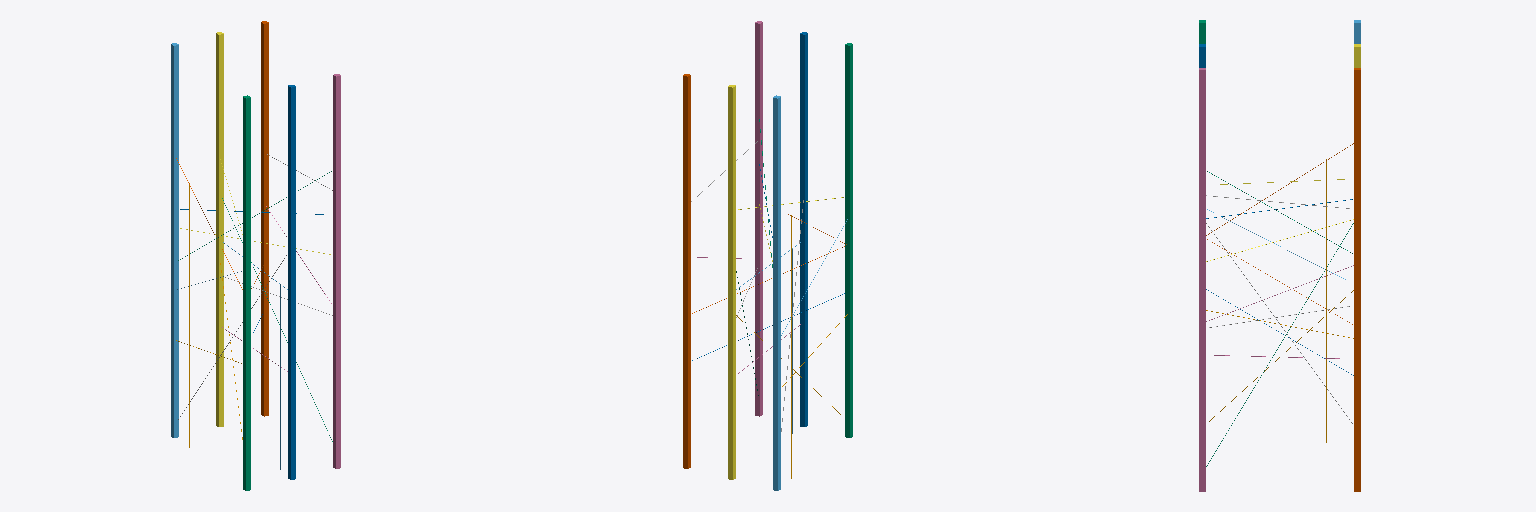
The robot description file, URDF, robot "strings":
<robot name="strings">
   <material name="Brown">
     <color rgba="83./255. 53./255. 10./255."/>
   </material>
   <material name="White">
     <color rgba="1 1 1"/>
   </material>
   <material name="Grey">
     <color rgba=".3 .3 .3"/>
   </material>
   <material name="Red">
     <color rgba="1 0 0"/>
   </material>
   <link name="world"/>

   <link name="l1">
   	<inertial>
   		<mass value=".5" />
   		<origin xyz="0 0 1.5" rpy="0 0 0"/>
		  <inertia ixx="10"  ixy="0"  ixz="0" iyy="10" iyz="0" izz="1" />
   	</inertial>
  	<visual>
      <origin xyz="0 0 1.5" rpy="0 0 0" />
      <geometry>
        <box size="0.042 0.042 3"/>
      </geometry>
      <material name="White"/>
    </visual>
    <collision>
      <origin xyz="0 0 1.5" rpy="0 0 0" />
      <geometry>
        <box size="0.042 0.042 3"/>
      </geometry>
    </collision>
   </link>
   <joint name="l1_weld" type="fixed">
    <parent link="world"/>
      <child link="l1"/>
    <origin xyz="-.36 .5 0" rpy="0 0 0" />
   </joint>
   <link name="l2">
   	<inertial>
   		<mass value=".5" />
   		<origin xyz="0 0 1.5" rpy="0 0 0"/>
		  <inertia ixx="10"  ixy="0"  ixz="0" iyy="10" iyz="0" izz="1" />
   	</inertial>
  	<visual>
      <origin xyz="0 0 1.5" rpy="0 0 0" />
      <geometry>
        <box size="0.042 0.042 3"/>
      </geometry>
      <material name="White"/>
    </visual>
    <collision>
      <origin xyz="0 0 1.5" rpy="0 0 0" />
      <geometry>
        <box size="0.042 0.042 3"/>
      </geometry>
    </collision>
   </link>
   <joint name="l2_weld" type="fixed">
    <parent link="world"/>
      <child link="l2"/>
    <origin xyz="-.36 -.5 0" rpy="0 0 0" />
   </joint>

   <link name="l3">
   	<inertial>
   		<mass value=".5" />
   		<origin xyz="0 0 1.5" rpy="0 0 0"/>
		  <inertia ixx="10"  ixy="0"  ixz="0" iyy="10" iyz="0" izz="1" />
   	</inertial>
  	<visual>
      <origin xyz="0 0 1.5" rpy="0 0 0" />
      <geometry>
        <box size="0.042 0.042 3"/>
      </geometry>
      <material name="White"/>
    </visual>
    <collision>
      <origin xyz="0 0 1.5" rpy="0 0 0" />
      <geometry>
        <box size="0.042 0.042 3"/>
      </geometry>
    </collision>
   </link>
   <joint name="l3_weld" type="fixed">
    <parent link="world"/>
      <child link="l3"/>
    <origin xyz="0 .5 0" rpy="0 0 0" />
   </joint>
   <link name="l4">
   	<inertial>
   		<mass value=".5" />
   		<origin xyz="0 0 1.5" rpy="0 0 0"/>
		  <inertia ixx="10"  ixy="0"  ixz="0" iyy="10" iyz="0" izz="1" />
   	</inertial>
  	<visual>
      <origin xyz="0 0 1.5" rpy="0 0 0" />
      <geometry>
        <box size="0.042 0.042 3"/>
      </geometry>
      <material name="White"/>
    </visual>
    <collision>
      <origin xyz="0 0 1.5" rpy="0 0 0" />
      <geometry>
        <box size="0.042 0.042 3"/>
      </geometry>
    </collision>
   </link>
   <joint name="l4_weld" type="fixed">
    <parent link="world"/>
      <child link="l4"/>
    <origin xyz="0 -.5 0" rpy="0 0 0" />
   </joint>

   <link name="l5">
   	<inertial>
   		<mass value=".5" />
   		<origin xyz="0 0 1.5" rpy="0 0 0"/>
		  <inertia ixx="10"  ixy="0"  ixz="0" iyy="10" iyz="0" izz="1" />
   	</inertial>
  	<visual>
      <origin xyz="0 0 1.5" rpy="0 0 0" />
      <geometry>
        <box size="0.042 0.042 3"/>
      </geometry>
      <material name="White"/>
    </visual>
    <collision>
      <origin xyz="0 0 1.5" rpy="0 0 0" />
      <geometry>
        <box size="0.042 0.042 3"/>
      </geometry>
    </collision>
   </link>
   <joint name="l5_weld" type="fixed">
    <parent link="world"/>
      <child link="l5"/>
    <origin xyz=".36 .5 0" rpy="0 0 0" />
   </joint>
   <link name="l6">
   	<inertial>
   		<mass value=".5" />
   		<origin xyz="0 0 1.5" rpy="0 0 0"/>
		  <inertia ixx="10"  ixy="0"  ixz="0" iyy="10" iyz="0" izz="1" />
   	</inertial>
  	<visual>
      <origin xyz="0 0 1.5" rpy="0 0 0" />
      <geometry>
        <box size="0.042 0.042 3"/>
      </geometry>
      <material name="White"/>
    </visual>
    <collision>
      <origin xyz="0 0 1.5" rpy="0 0 0" />
      <geometry>
        <box size="0.042 0.042 3"/>
      </geometry>
    </collision>
   </link>
   <joint name="l6_weld" type="fixed">
    <parent link="world"/>
      <child link="l6"/>
    <origin xyz=".36 -.5 0" rpy="0 0 0" />
   </joint>

   <link name="string1">
      <inertial>
         <mass value=".5"/>
         <origin rpy="0 0 0" xyz="0 0 0.99398"/>
         <inertia ixx="10" ixy="0" ixz="0" iyy="10" iyz="0" izz="1"/>
      </inertial>
      <visual>
         <origin rpy="0 0 0" xyz="0 0 0.99398"/>
         <geometry>
            <box size=".002 .002 1.988"/>
         </geometry>
         <material name="Red"/>
      </visual>
      <collision>
         <origin rpy="0 0 0" xyz="0 0 0.99398"/>
         <geometry>
            <box size=".002 .002 1.988"/>
         </geometry>
      </collision>
   </link>
   <joint name="string1_weld" type="fixed">
      <parent link="world"/>
      <child link="string1"/>
      <origin rpy="0.53691 0.18209 0.050222" xyz="-0.36 0.5 0.09"/>
   </joint>
   <link name="string2">
      <inertial>
         <mass value=".5"/>
         <origin rpy="0 0 0" xyz="0 0 0.51091"/>
         <inertia ixx="10" ixy="0" ixz="0" iyy="10" iyz="0" izz="1"/>
      </inertial>
      <visual>
         <origin rpy="0 0 0" xyz="0 0 0.51091"/>
         <geometry>
            <box size=".002 .002 1.0218"/>
         </geometry>
         <material name="Red"/>
      </visual>
      <collision>
         <origin rpy="0 0 0" xyz="0 0 0.51091"/>
         <geometry>
            <box size=".002 .002 1.0218"/>
         </geometry>
      </collision>
   </link>
   <joint name="string2_weld" type="fixed">
      <parent link="world"/>
      <child link="string2"/>
      <origin rpy="1.3638 0 0" xyz="-0.36 0.5 0.74"/>
   </joint>
   <link name="string3">
      <inertial>
         <mass value=".5"/>
         <origin rpy="0 0 0" xyz="0 0 0.57306"/>
         <inertia ixx="10" ixy="0" ixz="0" iyy="10" iyz="0" izz="1"/>
      </inertial>
      <visual>
         <origin rpy="0 0 0" xyz="0 0 0.57306"/>
         <geometry>
            <box size=".002 .002 1.1461"/>
         </geometry>
         <material name="Red"/>
      </visual>
      <collision>
         <origin rpy="0 0 0" xyz="0 0 0.57306"/>
         <geometry>
            <box size=".002 .002 1.1461"/>
         </geometry>
      </collision>
   </link>
   <joint name="string3_weld" type="fixed">
      <parent link="world"/>
      <child link="string3"/>
      <origin rpy="1.0603 0 0" xyz="-0.36 0.5 1.12"/>
   </joint>
   <link name="string4">
      <inertial>
         <mass value=".5"/>
         <origin rpy="0 0 0" xyz="0 0 0.78102"/>
         <inertia ixx="10" ixy="0" ixz="0" iyy="10" iyz="0" izz="1"/>
      </inertial>
      <visual>
         <origin rpy="0 0 0" xyz="0 0 0.78102"/>
         <geometry>
            <box size=".002 .002 1.562"/>
         </geometry>
         <material name="Red"/>
      </visual>
      <collision>
         <origin rpy="0 0 0" xyz="0 0 0.78102"/>
         <geometry>
            <box size=".002 .002 1.562"/>
         </geometry>
      </collision>
   </link>
   <joint name="string4_weld" type="fixed">
      <parent link="world"/>
      <child link="string4"/>
      <origin rpy="0.8058 0.47905 0.20743" xyz="-0.36 0.5 1.33"/>
   </joint>
   <link name="string5">
      <inertial>
         <mass value=".5"/>
         <origin rpy="0 0 0" xyz="0 0 0.6162"/>
         <inertia ixx="10" ixy="0" ixz="0" iyy="10" iyz="0" izz="1"/>
      </inertial>
      <visual>
         <origin rpy="0 0 0" xyz="0 0 0.6162"/>
         <geometry>
            <box size=".002 .002 1.2324"/>
         </geometry>
         <material name="Red"/>
      </visual>
      <collision>
         <origin rpy="0 0 0" xyz="0 0 0.6162"/>
         <geometry>
            <box size=".002 .002 1.2324"/>
         </geometry>
      </collision>
   </link>
   <joint name="string5_weld" type="fixed">
      <parent link="world"/>
      <child link="string5"/>
      <origin rpy="1.5508 0.62393 0.61234" xyz="-0.36 0.5 1.6"/>
   </joint>
   <link name="string6">
      <inertial>
         <mass value=".5"/>
         <origin rpy="0 0 0" xyz="0 0 0.6234"/>
         <inertia ixx="10" ixy="0" ixz="0" iyy="10" iyz="0" izz="1"/>
      </inertial>
      <visual>
         <origin rpy="0 0 0" xyz="0 0 0.6234"/>
         <geometry>
            <box size=".002 .002 1.2468"/>
         </geometry>
         <material name="Red"/>
      </visual>
      <collision>
         <origin rpy="0 0 0" xyz="0 0 0.6234"/>
         <geometry>
            <box size=".002 .002 1.2468"/>
         </geometry>
      </collision>
   </link>
   <joint name="string6_weld" type="fixed">
      <parent link="world"/>
      <child link="string6"/>
      <origin rpy="1.383 0.61564 0.51474" xyz="-0.36 0.5 1.74"/>
   </joint>
   <link name="string7">
      <inertial>
         <mass value=".5"/>
         <origin rpy="0 0 0" xyz="0 0 0.60747"/>
         <inertia ixx="10" ixy="0" ixz="0" iyy="10" iyz="0" izz="1"/>
      </inertial>
      <visual>
         <origin rpy="0 0 0" xyz="0 0 0.60747"/>
         <geometry>
            <box size=".002 .002 1.2149"/>
         </geometry>
         <material name="Red"/>
      </visual>
      <collision>
         <origin rpy="0 0 0" xyz="0 0 0.60747"/>
         <geometry>
            <box size=".002 .002 1.2149"/>
         </geometry>
      </collision>
   </link>
   <joint name="string7_weld" type="fixed">
      <parent link="world"/>
      <child link="string7"/>
      <origin rpy="2.1748 0 0" xyz="-0.36 0.5 2.15"/>
   </joint>
   <link name="string8">
      <inertial>
         <mass value=".5"/>
         <origin rpy="0 0 0" xyz="0 0 0.50022"/>
         <inertia ixx="10" ixy="0" ixz="0" iyy="10" iyz="0" izz="1"/>
      </inertial>
      <visual>
         <origin rpy="0 0 0" xyz="0 0 0.50022"/>
         <geometry>
            <box size=".002 .002 1.0004"/>
         </geometry>
         <material name="Red"/>
      </visual>
      <collision>
         <origin rpy="0 0 0" xyz="0 0 0.50022"/>
         <geometry>
            <box size=".002 .002 1.0004"/>
         </geometry>
      </collision>
   </link>
   <joint name="string8_weld" type="fixed">
      <parent link="world"/>
      <child link="string8"/>
      <origin rpy="1.5408 0 0" xyz="0 0.5 0.765"/>
   </joint>
   <link name="string9">
      <inertial>
         <mass value=".5"/>
         <origin rpy="0 0 0" xyz="0 0 0.53141"/>
         <inertia ixx="10" ixy="0" ixz="0" iyy="10" iyz="0" izz="1"/>
      </inertial>
      <visual>
         <origin rpy="0 0 0" xyz="0 0 0.53141"/>
         <geometry>
            <box size=".002 .002 1.0628"/>
         </geometry>
         <material name="Red"/>
      </visual>
      <collision>
         <origin rpy="0 0 0" xyz="0 0 0.53141"/>
         <geometry>
            <box size=".002 .002 1.0628"/>
         </geometry>
      </collision>
   </link>
   <joint name="string9_weld" type="fixed">
      <parent link="world"/>
      <child link="string9"/>
      <origin rpy="1.5708 0.34556 0.34556" xyz="0 0.5 1.15"/>
   </joint>
   <link name="string10">
      <inertial>
         <mass value=".5"/>
         <origin rpy="0 0 0" xyz="0 0 0.79033"/>
         <inertia ixx="10" ixy="0" ixz="0" iyy="10" iyz="0" izz="1"/>
      </inertial>
      <visual>
         <origin rpy="0 0 0" xyz="0 0 0.79033"/>
         <geometry>
            <box size=".002 .002 1.5807"/>
         </geometry>
         <material name="Red"/>
      </visual>
      <collision>
         <origin rpy="0 0 0" xyz="0 0 0.79033"/>
         <geometry>
            <box size=".002 .002 1.5807"/>
         </geometry>
      </collision>
   </link>
   <joint name="string10_weld" type="fixed">
      <parent link="world"/>
      <child link="string10"/>
      <origin rpy="2.4344 -0.22977 -0.60597" xyz="0 0.5 1.28"/>
   </joint>
   <link name="string11">
      <inertial>
         <mass value=".5"/>
         <origin rpy="0 0 0" xyz="0 0 0.5"/>
         <inertia ixx="10" ixy="0" ixz="0" iyy="10" iyz="0" izz="1"/>
      </inertial>
      <visual>
         <origin rpy="0 0 0" xyz="0 0 0.5"/>
         <geometry>
            <box size=".002 .002 1"/>
         </geometry>
         <material name="Red"/>
      </visual>
      <collision>
         <origin rpy="0 0 0" xyz="0 0 0.5"/>
         <geometry>
            <box size=".002 .002 1"/>
         </geometry>
      </collision>
   </link>
   <joint name="string11_weld" type="fixed">
      <parent link="world"/>
      <child link="string11"/>
      <origin rpy="1.5708 0 0" xyz="0 0.5 1.42"/>
   </joint>
   <link name="string12">
      <inertial>
         <mass value=".5"/>
         <origin rpy="0 0 0" xyz="0 0 0.98555"/>
         <inertia ixx="10" ixy="0" ixz="0" iyy="10" iyz="0" izz="1"/>
      </inertial>
      <visual>
         <origin rpy="0 0 0" xyz="0 0 0.98555"/>
         <geometry>
            <box size=".002 .002 1.9711"/>
         </geometry>
         <material name="Red"/>
      </visual>
      <collision>
         <origin rpy="0 0 0" xyz="0 0 0.98555"/>
         <geometry>
            <box size=".002 .002 1.9711"/>
         </geometry>
      </collision>
   </link>
   <joint name="string12_weld" type="fixed">
      <parent link="world"/>
      <child link="string12"/>
      <origin rpy="2.5994 0.18367 0.63993" xyz="0 0.5 1.78"/>
   </joint>
   <link name="string13">
      <inertial>
         <mass value=".5"/>
         <origin rpy="0 0 0" xyz="0 0 0.54218"/>
         <inertia ixx="10" ixy="0" ixz="0" iyy="10" iyz="0" izz="1"/>
      </inertial>
      <visual>
         <origin rpy="0 0 0" xyz="0 0 0.54218"/>
         <geometry>
            <box size=".002 .002 1.0844"/>
         </geometry>
         <material name="Red"/>
      </visual>
      <collision>
         <origin rpy="0 0 0" xyz="0 0 0.54218"/>
         <geometry>
            <box size=".002 .002 1.0844"/>
         </geometry>
      </collision>
   </link>
   <joint name="string13_weld" type="fixed">
      <parent link="world"/>
      <child link="string13"/>
      <origin rpy="1.7826 -0.33842 -0.41681" xyz="0 0.5 2.05"/>
   </joint>
   <link name="string14">
      <inertial>
         <mass value=".5"/>
         <origin rpy="0 0 0" xyz="0 0 0.63531"/>
         <inertia ixx="10" ixy="0" ixz="0" iyy="10" iyz="0" izz="1"/>
      </inertial>
      <visual>
         <origin rpy="0 0 0" xyz="0 0 0.63531"/>
         <geometry>
            <box size=".002 .002 1.2706"/>
         </geometry>
         <material name="Red"/>
      </visual>
      <collision>
         <origin rpy="0 0 0" xyz="0 0 0.63531"/>
         <geometry>
            <box size=".002 .002 1.2706"/>
         </geometry>
      </collision>
   </link>
   <joint name="string14_weld" type="fixed">
      <parent link="world"/>
      <child link="string14"/>
      <origin rpy="1.2702 -0.60243 -0.45014" xyz="0.36 0.5 0.8"/>
   </joint>
   <link name="string15">
      <inertial>
         <mass value=".5"/>
         <origin rpy="0 0 0" xyz="0 0 0.63531"/>
         <inertia ixx="10" ixy="0" ixz="0" iyy="10" iyz="0" izz="1"/>
      </inertial>
      <visual>
         <origin rpy="0 0 0" xyz="0 0 0.63531"/>
         <geometry>
            <box size=".002 .002 1.2706"/>
         </geometry>
         <material name="Red"/>
      </visual>
      <collision>
         <origin rpy="0 0 0" xyz="0 0 0.63531"/>
         <geometry>
            <box size=".002 .002 1.2706"/>
         </geometry>
      </collision>
   </link>
   <joint name="string15_weld" type="fixed">
      <parent link="world"/>
      <child link="string15"/>
      <origin rpy="1.2702 -0.60243 -0.45014" xyz="0.36 0.5 1.16"/>
   </joint>
   <link name="string16">
      <inertial>
         <mass value=".5"/>
         <origin rpy="0 0 0" xyz="0 0 0.54231"/>
         <inertia ixx="10" ixy="0" ixz="0" iyy="10" iyz="0" izz="1"/>
      </inertial>
      <visual>
         <origin rpy="0 0 0" xyz="0 0 0.54231"/>
         <geometry>
            <box size=".002 .002 1.0846"/>
         </geometry>
         <material name="Red"/>
      </visual>
      <collision>
         <origin rpy="0 0 0" xyz="0 0 0.54231"/>
         <geometry>
            <box size=".002 .002 1.0846"/>
         </geometry>
      </collision>
   </link>
   <joint name="string16_weld" type="fixed">
      <parent link="world"/>
      <child link="string16"/>
      <origin rpy="1.9684 0 0" xyz="0.36 0.5 1.61"/>
   </joint>
   <link name="string17">
      <inertial>
         <mass value=".5"/>
         <origin rpy="0 0 0" xyz="0 0 0.50249"/>
         <inertia ixx="10" ixy="0" ixz="0" iyy="10" iyz="0" izz="1"/>
      </inertial>
      <visual>
         <origin rpy="0 0 0" xyz="0 0 0.50249"/>
         <geometry>
            <box size=".002 .002 1.005"/>
         </geometry>
         <material name="Red"/>
      </visual>
      <collision>
         <origin rpy="0 0 0" xyz="0 0 0.50249"/>
         <geometry>
            <box size=".002 .002 1.005"/>
         </geometry>
      </collision>
   </link>
   <joint name="string17_weld" type="fixed">
      <parent link="world"/>
      <child link="string17"/>
      <origin rpy="1.4711 0 0" xyz="0.36 0.5 2"/>
   </joint>
   <link name="string18">
      <inertial>
         <mass value=".5"/>
         <origin rpy="0 0 0" xyz="0 0 1.01"/>
         <inertia ixx="10" ixy="0" ixz="0" iyy="10" iyz="0" izz="1"/>
      </inertial>
      <visual>
         <origin rpy="0 0 0" xyz="0 0 1.01"/>
         <geometry>
            <box size=".002 .002 2.02"/>
         </geometry>
         <material name="Red"/>
      </visual>
      <collision>
         <origin rpy="0 0 0" xyz="0 0 1.01"/>
         <geometry>
            <box size=".002 .002 2.02"/>
         </geometry>
      </collision>
   </link>
   <joint name="string18_weld" type="fixed">
      <parent link="world"/>
      <child link="string18"/>
      <origin rpy="0 0 0" xyz="-0.36 0.3 0"/>
   </joint>
   <link name="string19">
      <inertial>
         <mass value=".5"/>
         <origin rpy="0 0 0" xyz="0 0 0.71"/>
         <inertia ixx="10" ixy="0" ixz="0" iyy="10" iyz="0" izz="1"/>
      </inertial>
      <visual>
         <origin rpy="0 0 0" xyz="0 0 0.71"/>
         <geometry>
            <box size=".002 .002 1.42"/>
         </geometry>
         <material name="Red"/>
      </visual>
      <collision>
         <origin rpy="0 0 0" xyz="0 0 0.71"/>
         <geometry>
            <box size=".002 .002 1.42"/>
         </geometry>
      </collision>
   </link>
   <joint name="string19_weld" type="fixed">
      <parent link="world"/>
      <child link="string19"/>
      <origin rpy="0 0 0" xyz="0 -0.34 0"/>
   </joint>
   <link name="string20">
      <inertial>
         <mass value=".5"/>
         <origin rpy="0 0 0" xyz="0 0 1"/>
         <inertia ixx="10" ixy="0" ixz="0" iyy="10" iyz="0" izz="1"/>
      </inertial>
      <visual>
         <origin rpy="0 0 0" xyz="0 0 1"/>
         <geometry>
            <box size=".002 .002 2"/>
         </geometry>
         <material name="Red"/>
      </visual>
      <collision>
         <origin rpy="0 0 0" xyz="0 0 1"/>
         <geometry>
            <box size=".002 .002 2"/>
         </geometry>
      </collision>
   </link>
   <joint name="string20_weld" type="fixed">
      <parent link="world"/>
      <child link="string20"/>
      <origin rpy="0 0 0" xyz="0.36 0 0"/>
   </joint>

</robot>

--- Render facts (derived) ---
3 views of the same robot in one strip: view 1: azimuth 30°, elevation 25°; view 2: azimuth 150°, elevation 25°; view 3: azimuth 270°, elevation 25° (orthographic).
Robot: strings — 27 links, 26 joints (26 fixed); root link world; default pose: all joints at 0.
Links seen in each view (by area): view 1: l2, l4, l6, l1, l3, l5; view 2: l1, l3, l5, l2, l4, l6; view 3: l5, l6.
Link boxes in pixels (x1,y1,x2,y2): l2: [243, 95, 250, 490]; l4: [288, 85, 295, 479]; l6: [333, 74, 340, 468]; l1: [171, 43, 178, 437]; l3: [216, 32, 223, 426]; l5: [261, 21, 268, 416]; l1: [773, 95, 780, 490]; l3: [728, 85, 735, 479]; l5: [683, 74, 690, 468]; l2: [845, 43, 852, 437]; l4: [800, 32, 807, 426]; l6: [755, 21, 762, 416]; l5: [1354, 68, 1360, 491]; l6: [1199, 68, 1205, 491].
Bounding box of the posed robot: 0.762 × 1.04 × 3 m (x, y, z).
Geometry: primitives only (box / cylinder / sphere), no mesh files.
